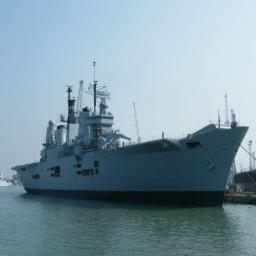Portanaves: (11, 53, 248, 211)
